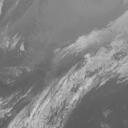cyclone: (40, 49, 94, 96)
